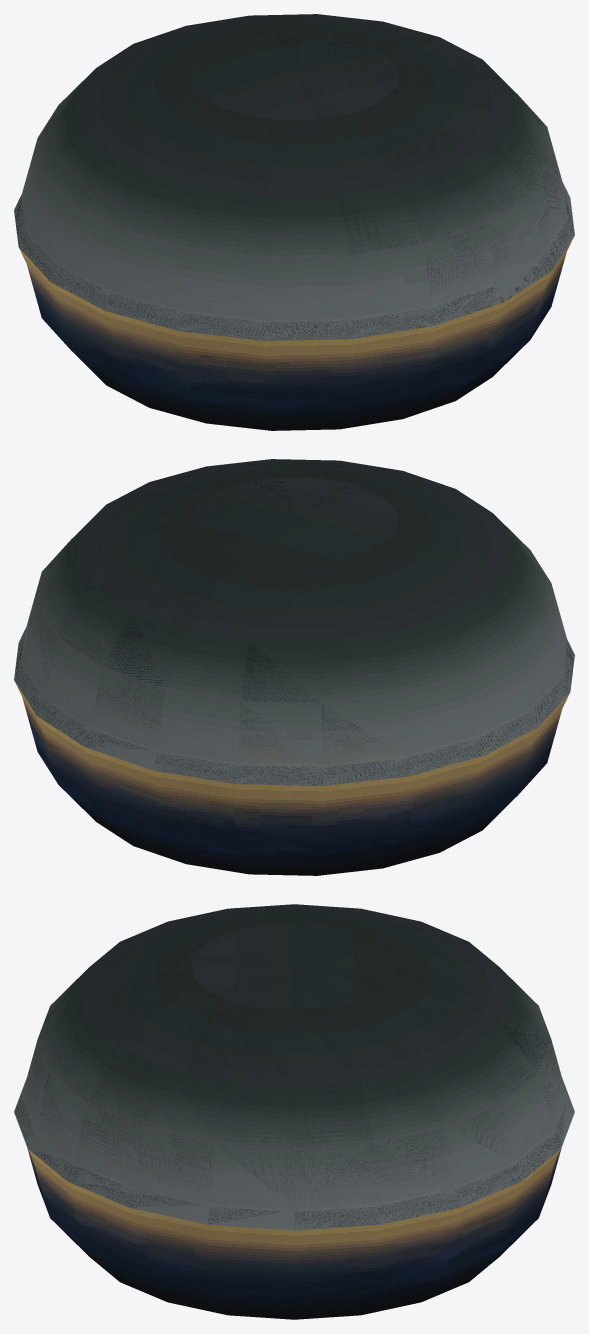
The model's file is stage-metr-sky.glb.
The picture shows the model from 3 angles, top to bottom: view 1: azimuth 30°, elevation 25°; view 2: azimuth 150°, elevation 25°; view 3: azimuth 270°, elevation 25°; orthographic projection.
Parts seen in each view (by area): view 1: sky; view 2: sky; view 3: sky.
Part boxes in pixels (x1,y1,x2,y2): sky: (14, 14, 574, 430); sky: (14, 459, 574, 875); sky: (14, 904, 574, 1319).
Bounding box in the file's own units: 3660 × 2190 × 3660.
3 materials, 3 textured.
